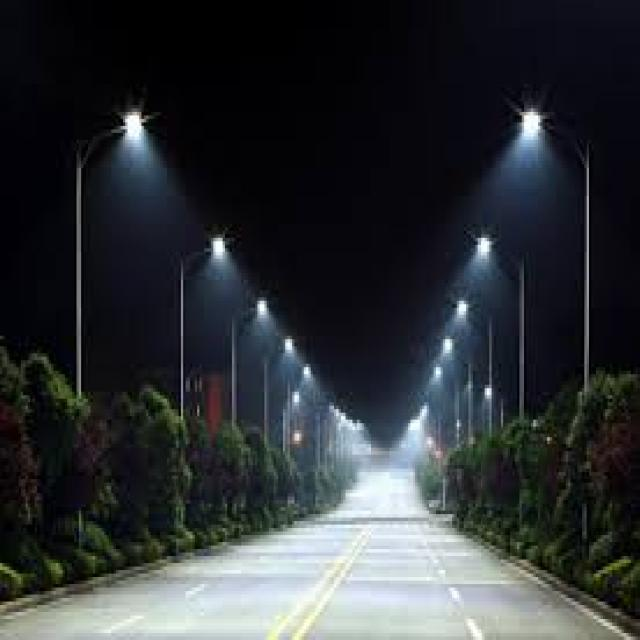Street Light: (72, 108, 148, 549), (522, 105, 594, 552), (178, 230, 232, 532), (478, 234, 526, 532), (230, 297, 264, 518)
